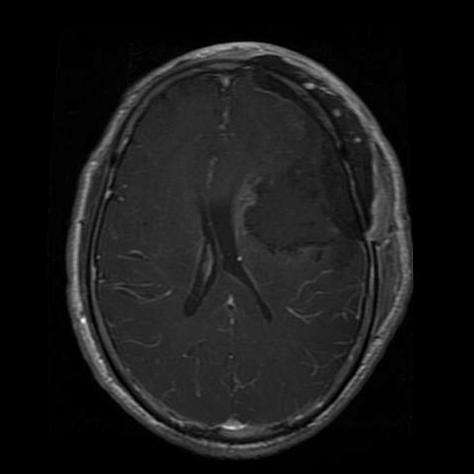Tumour-Glioma: (234, 142, 361, 268)
